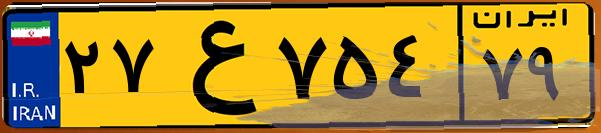2: (57, 26, 110, 100)
4: (385, 28, 445, 110)
5: (330, 28, 385, 110)
7: (270, 28, 330, 110), (475, 38, 525, 113), (110, 28, 158, 98)
9: (525, 38, 570, 115)
ع: (158, 12, 270, 120)
